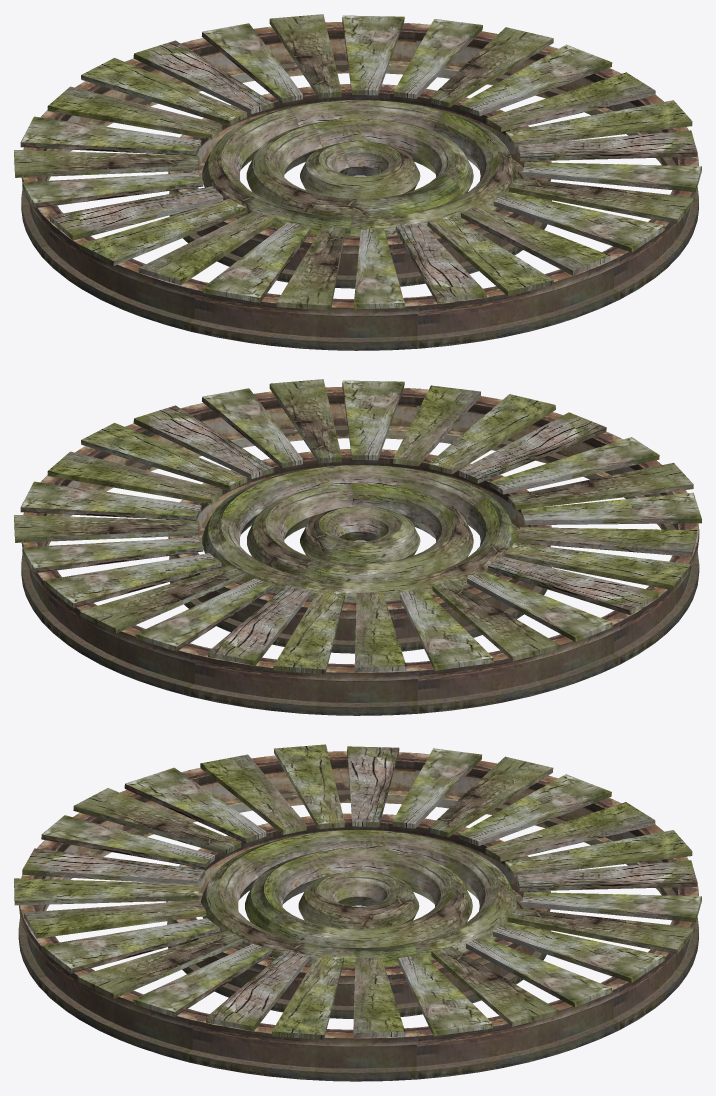
Rendered from Circle ramp2.fbx.
3 views of the same model, one above another, from view 1: azimuth 30°, elevation 25°; view 2: azimuth 150°, elevation 25°; view 3: azimuth 270°, elevation 25° (orthographic).
Parts seen in each view (by area): view 1: CIRCLE RAMP.2; view 2: CIRCLE RAMP.2; view 3: CIRCLE RAMP.2.
Boxes of the visible parts, <box> form: CIRCLE RAMP.2: <box>14,14,701,350</box>; CIRCLE RAMP.2: <box>14,379,701,715</box>; CIRCLE RAMP.2: <box>14,744,701,1081</box>.
Size of the model in its own units: 385 by 30.16 by 385.
